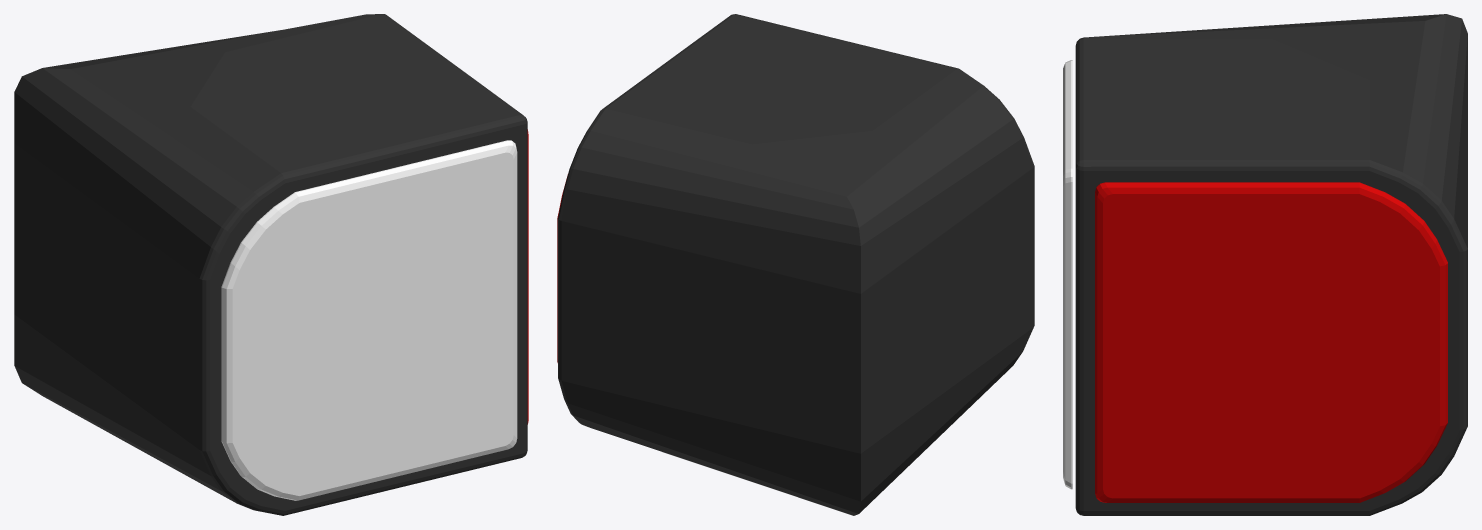
3 views of the same model, side by side, from view 1: azimuth 30°, elevation 25°; view 2: azimuth 150°, elevation 25°; view 3: azimuth 270°, elevation 25° (orthographic). The views are drawn at different scales.
Parts seen in each view (by area): view 1: Cube.024, Cube.074, Cube.040; view 2: Cube.024; view 3: Cube.040, Cube.024, Cube.074.
Boxes of the visible parts, left/top/right/bottom form: Cube.024: left=14, top=14, right=527, bottom=515; Cube.074: left=221, top=140, right=517, bottom=500; Cube.040: left=527, top=129, right=528, bottom=424; Cube.024: left=558, top=14, right=1034, bottom=515; Cube.040: left=1095, top=182, right=1447, bottom=502; Cube.024: left=1075, top=14, right=1467, bottom=515; Cube.074: left=1063, top=60, right=1072, bottom=489.
Bounding box in the file's own units: 206 × 200 × 206.
